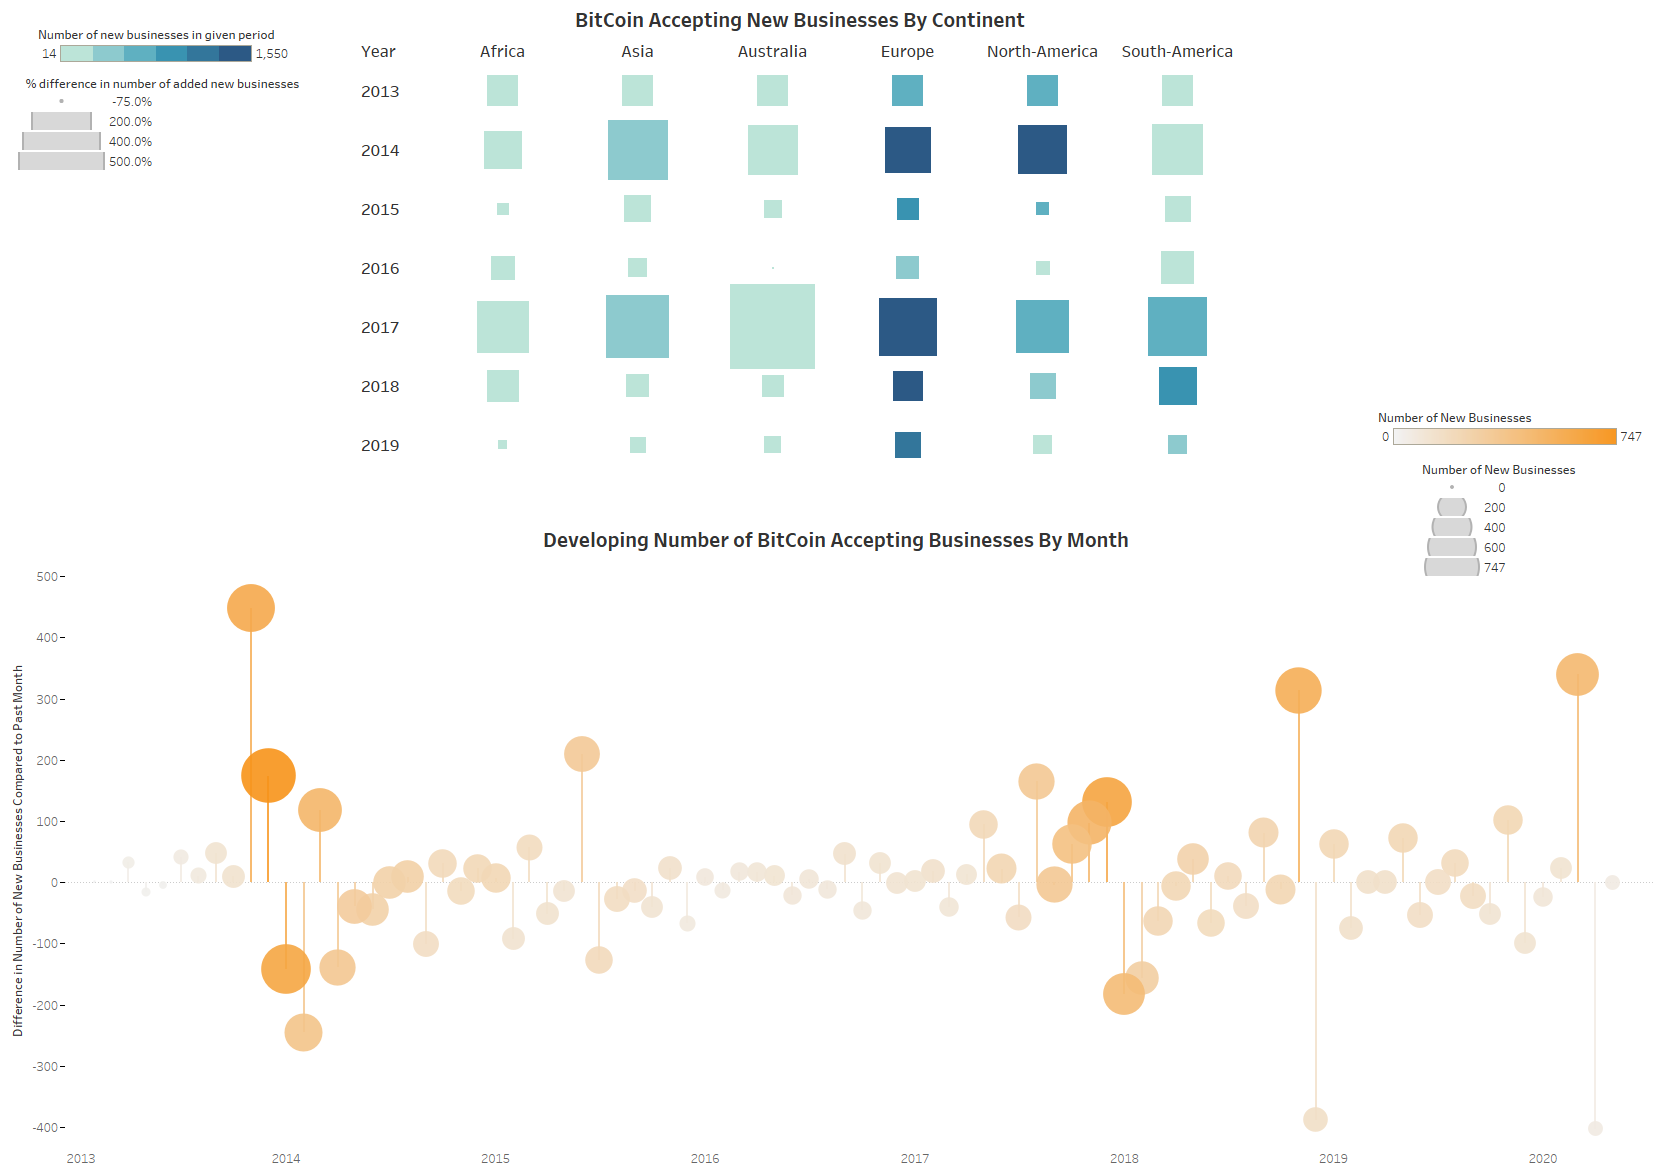

This screenshot's page, from the dashboard's own definition file:
{"tool":"tableau","page":{"name":"Business Growth","canvas":[1654,1169],"ordinal":1},"visuals":[{"type":"text","box":[1456,13,171,30]},{"type":"legend","title":"Growth by Continent","param":"[federated.0qyqyzj0qf1n4i1dxg0tm0yroo5i].[sum:Businesses:qk]","box":[38,22,255,60]},{"type":"legend","title":"Growth by Continent","param":"[federated.0qyqyzj0qf1n4i1dxg0tm0yroo5i].[pcdf:sum:Businesses:qk]","box":[15,73,293,148]},{"type":"legend","title":"lollipop of businesses","param":"[federated.0rg4kuo0qrrmle1eso1do0pyr2xw].[ctd:name:qk]","box":[1333,554,269,58]}]}

Visuals, with their boxes in screenshot pixels (x1, y1, x2, y2), scaled from the page's 1654x1169 canvas onto the 1654x1169 screenshot:
text: 1456 13 1627 43
"Growth by Continent" legend: 38 22 293 82
"Growth by Continent" legend: 15 73 308 221
"lollipop of businesses" legend: 1333 554 1602 612
